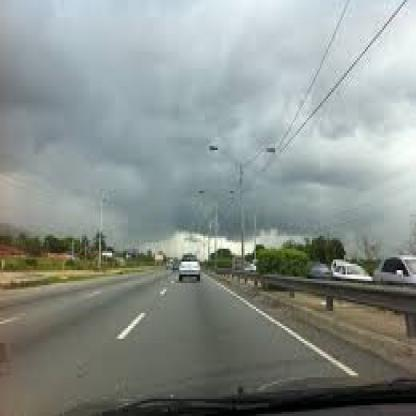car: (370, 241, 416, 297), (178, 243, 203, 291)
